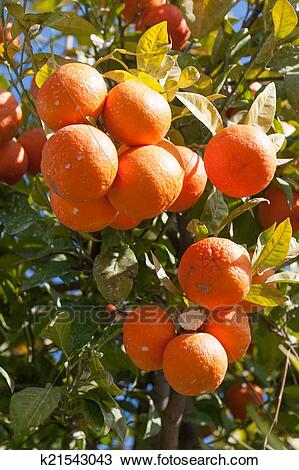orange: (40, 125, 117, 203), (105, 141, 182, 218), (204, 124, 276, 199), (178, 237, 250, 308), (35, 62, 106, 130), (104, 77, 172, 148), (49, 161, 117, 232), (163, 333, 226, 397), (188, 300, 251, 364), (123, 303, 176, 371), (163, 144, 206, 211), (139, 5, 190, 49), (104, 181, 146, 232), (258, 184, 299, 234), (14, 129, 52, 176), (1, 140, 26, 187), (1, 88, 22, 142)
